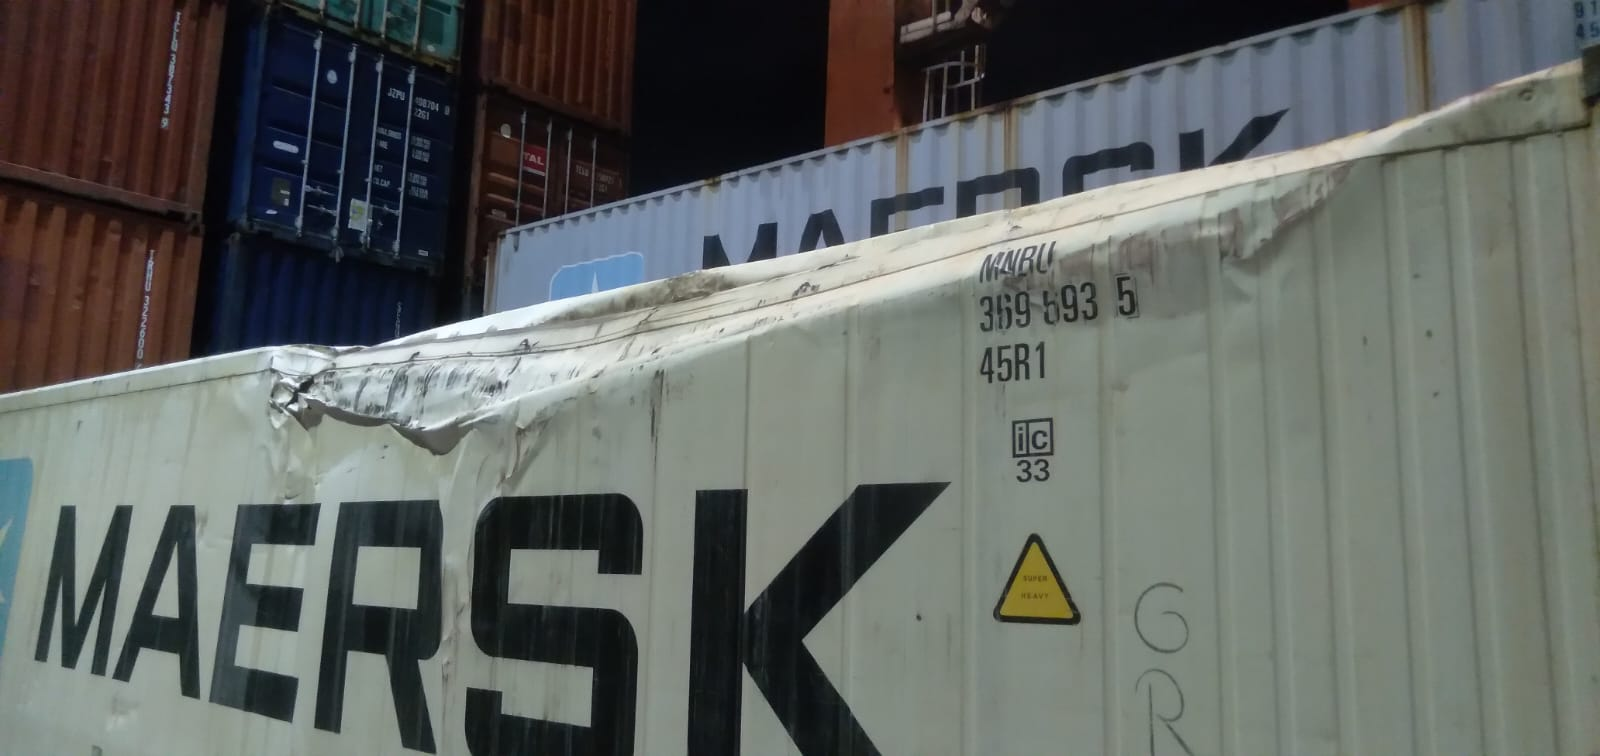bulged: (253, 192, 1313, 444)
